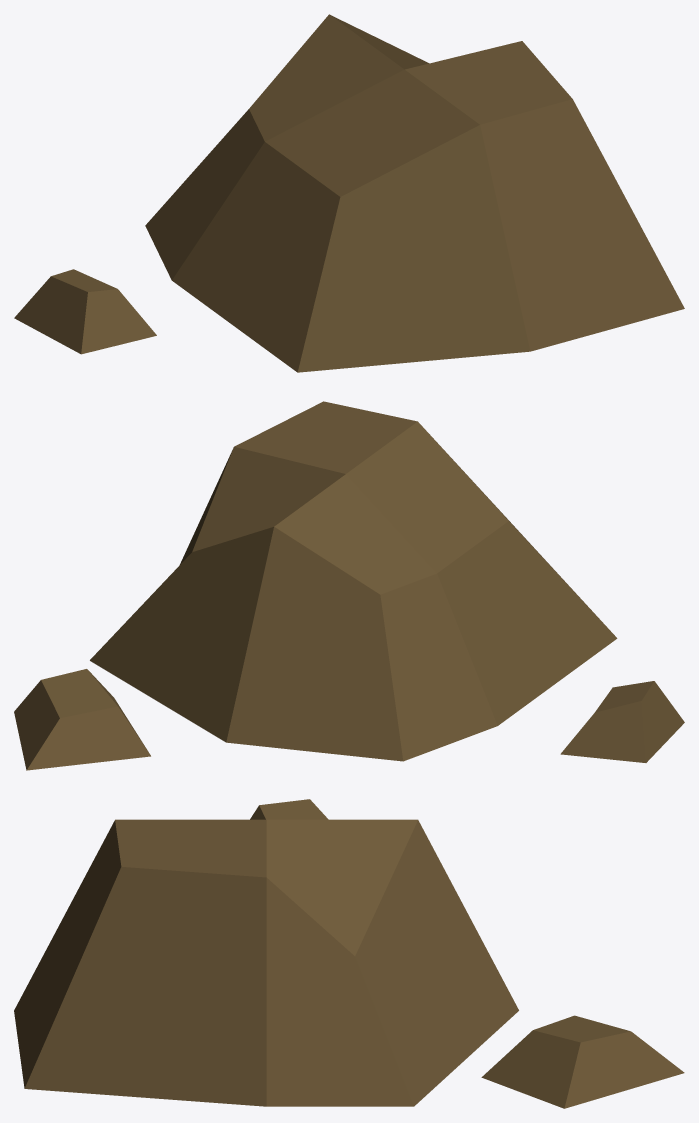
Rendered from groundRocks01.fbx.
3 views of the same model, one above another, from view 1: azimuth 30°, elevation 25°; view 2: azimuth 150°, elevation 25°; view 3: azimuth 270°, elevation 25° (orthographic). The views are drawn at different scales.
Parts seen in each view (by area): view 1: groundRocks01; view 2: groundRocks01; view 3: groundRocks01.
Part boxes in pixels (x1,y1,x2,y2): groundRocks01: [14, 14, 684, 372]; groundRocks01: [14, 401, 684, 770]; groundRocks01: [14, 799, 684, 1108].
Bounding box in the file's own units: 0.5852 × 0.192 × 0.6119.
